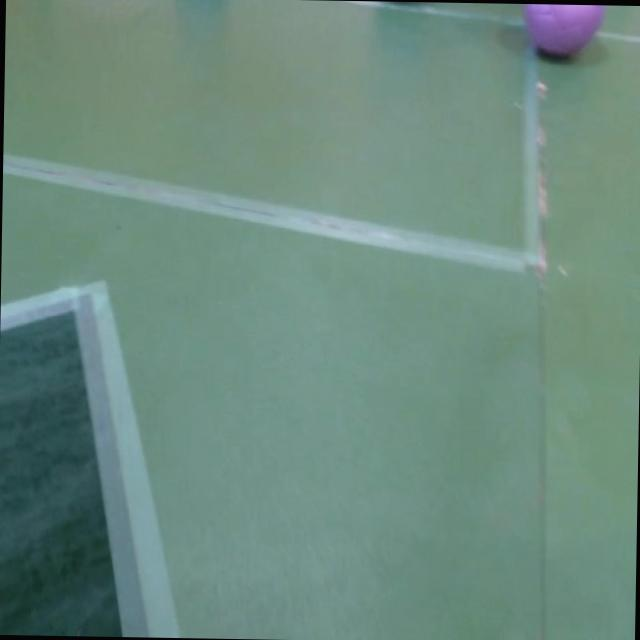purple_ball: (520, 4, 610, 58)
